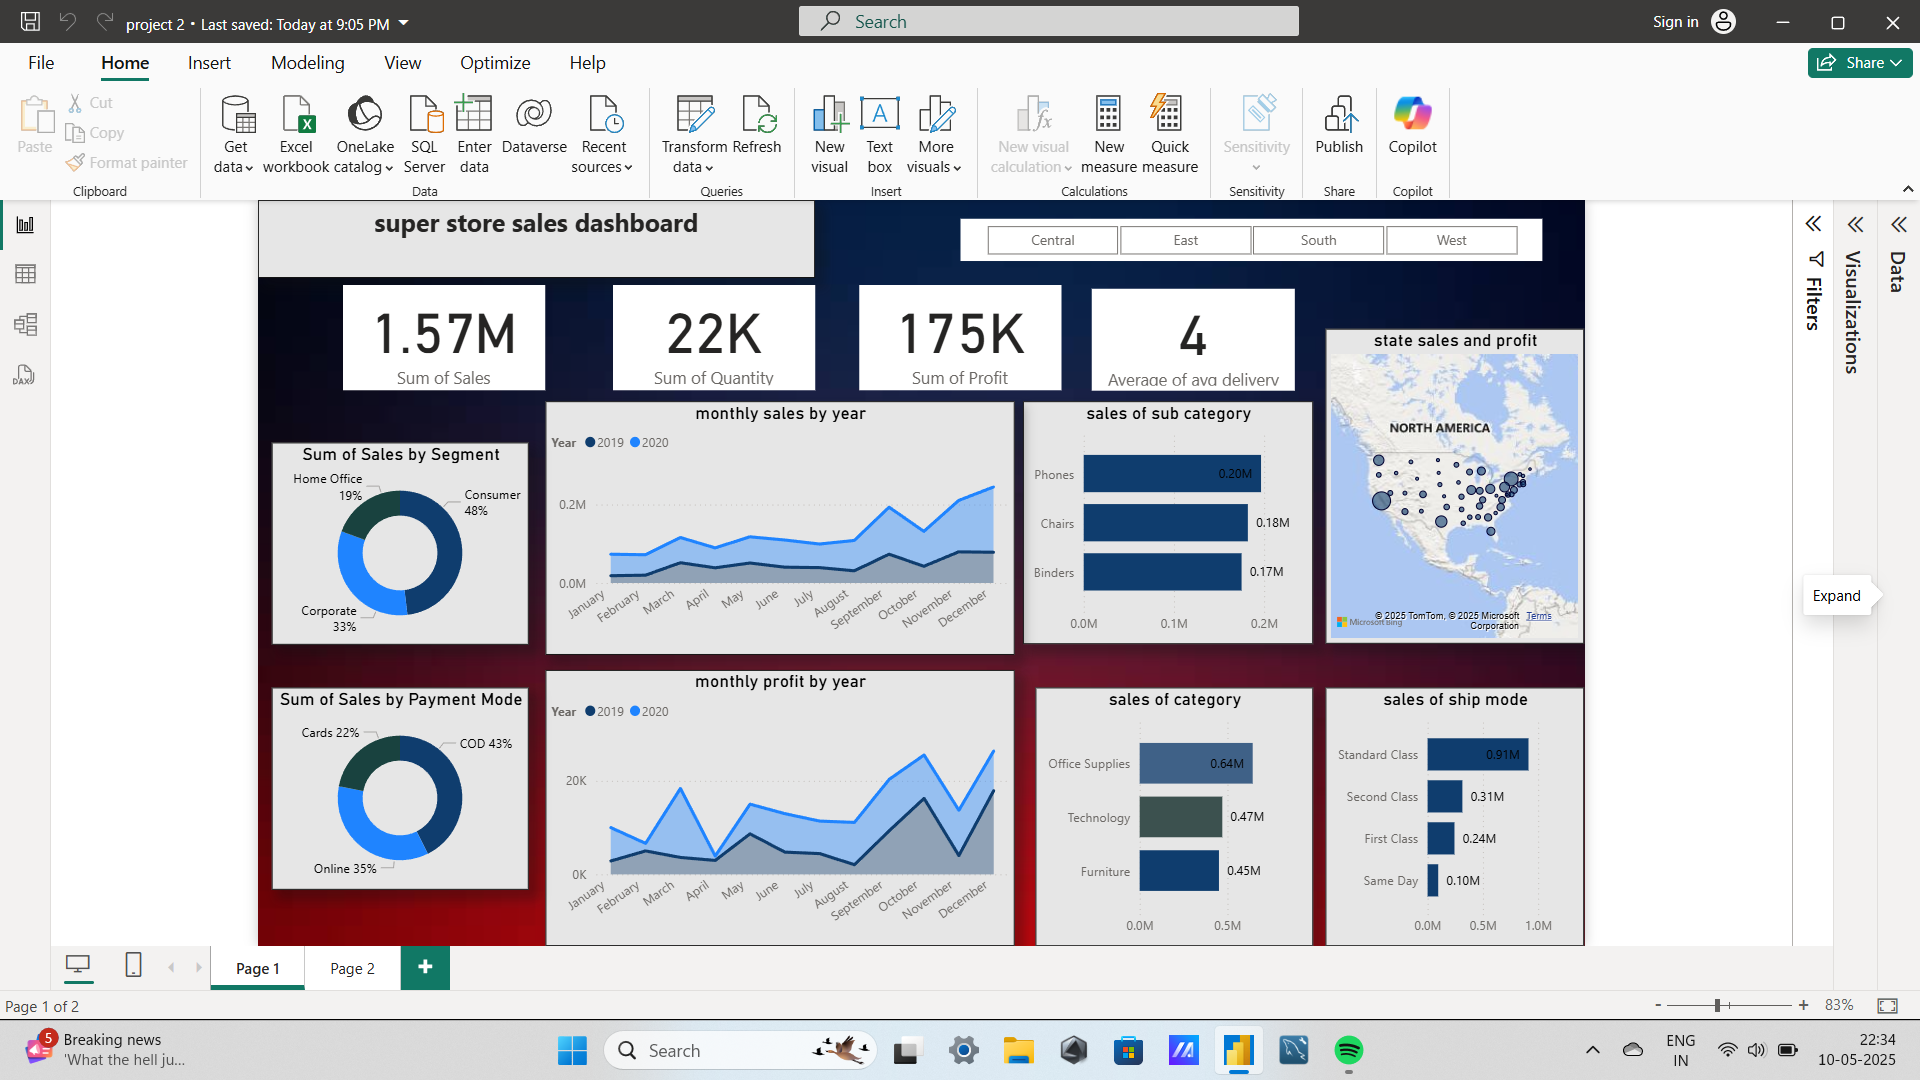

The page's visual inventory and layout, read from the dashboard file:
{"tool":"powerbi","page":{"name":"Page 1","canvas":[1280,720],"ordinal":0},"visuals":[{"type":"clusteredBarChart","title":"sales of category","fields":{"Category":["SuperStore_Sales_Dataset.Category"],"Y":["Sum(SuperStore_Sales_Dataset.Sales)"]},"box":[750.4,470.5,267.8,249.7],"z":0},{"type":"clusteredBarChart","title":"sales of sub category","fields":{"Category":["SuperStore_Sales_Dataset.Sub-Category"],"Y":["Sum(SuperStore_Sales_Dataset.Sales)"]},"box":[738.3,194.2,279.9,234],"z":1000},{"type":"clusteredBarChart","title":"sales of ship mode","fields":{"Category":["SuperStore_Sales_Dataset.Ship Mode"],"Y":["Sum(SuperStore_Sales_Dataset.Sales)"]},"box":[1030.3,470.5,249.7,249.7],"z":2000},{"type":"stackedAreaChart","title":"monthly sales by year","fields":{"Y":["Sum(SuperStore_Sales_Dataset.Sales)"],"Series":["SuperStore_Sales_Dataset.Order Date.Variation.Date Hierarchy.Year"],"Category":["SuperStore_Sales_Dataset.Order Date.Variation.Date Hierarchy.Month","SuperStore_Sales_Dataset.Order Date.Variation.Date Hierarchy.Day"]},"box":[277.5,194.2,452.4,244.9],"z":3000},{"type":"stackedAreaChart","title":"monthly profit by year","fields":{"Series":["SuperStore_Sales_Dataset.Order Date.Variation.Date Hierarchy.Year"],"Category":["SuperStore_Sales_Dataset.Order Date.Variation.Date Hierarchy.Month"],"Y":["Sum(SuperStore_Sales_Dataset.Profit)"]},"box":[277.5,453.6,452.4,266.6],"z":4000},{"type":"map","title":"state sales and profit","fields":{"Category":["SuperStore_Sales_Dataset.State"],"Size":["Sum(SuperStore_Sales_Dataset.Sales)"]},"box":[1030.3,124.3,249.7,304],"z":5000},{"type":"donutChart","fields":{"Category":["SuperStore_Sales_Dataset.Segment"],"Y":["Sum(SuperStore_Sales_Dataset.Sales)"]},"box":[13.7,234.6,248.4,194.9],"z":6000},{"type":"donutChart","fields":{"Category":["SuperStore_Sales_Dataset.Payment Mode"],"Y":["Sum(SuperStore_Sales_Dataset.Sales)"]},"box":[13.7,470.7,248.4,194.9],"z":7000},{"type":"slicer","fields":{"Values":["SuperStore_Sales_Dataset.Region"]},"box":[677.9,17.8,561.2,41.2],"z":8000},{"type":"textbox","box":[0,0,537.9,75.5],"z":9000},{"type":"card","fields":{"Values":["Sum(SuperStore_Sales_Dataset.Sales)"]},"box":[82.3,82.3,194.9,101.5],"z":10000},{"type":"card","fields":{"Values":["Sum(SuperStore_Sales_Dataset.Quantity)"]},"box":[343.1,82.3,194.9,101.5],"z":11000},{"type":"card","fields":{"Values":["Sum(SuperStore_Sales_Dataset.Profit)"]},"box":[580.4,82.3,194.9,101.5],"z":12000},{"type":"card","fields":{"Values":["Avg(SuperStore_Sales_Dataset.avg delivery)"]},"box":[804.1,85.1,196.2,98.8],"z":13000}]}

Visuals, with their boxes on the page's 1280x720 design canvas (x1, y1, x2, y2). These are canvas units, not pixel positions in the 1920x1080 screenshot, which may show the page scaled, cropped or inside an application window:
"sales of category" clusteredBarChart: box(750, 470, 1018, 720)
"sales of sub category" clusteredBarChart: box(738, 194, 1018, 428)
"sales of ship mode" clusteredBarChart: box(1030, 470, 1280, 720)
"monthly sales by year" stackedAreaChart: box(278, 194, 730, 439)
"monthly profit by year" stackedAreaChart: box(278, 454, 730, 720)
"state sales and profit" map: box(1030, 124, 1280, 428)
donutChart - SuperStore_Sales_Dataset.Segment x Sum(SuperStore_Sales_Dataset.Sales): box(14, 235, 262, 430)
donutChart - SuperStore_Sales_Dataset.Payment Mode x Sum(SuperStore_Sales_Dataset.Sales): box(14, 471, 262, 666)
slicer - SuperStore_Sales_Dataset.Region: box(678, 18, 1239, 59)
textbox: box(0, 0, 538, 76)
card - Sum(SuperStore_Sales_Dataset.Sales): box(82, 82, 277, 184)
card - Sum(SuperStore_Sales_Dataset.Quantity): box(343, 82, 538, 184)
card - Sum(SuperStore_Sales_Dataset.Profit): box(580, 82, 775, 184)
card - Avg(SuperStore_Sales_Dataset.avg delivery): box(804, 85, 1000, 184)
